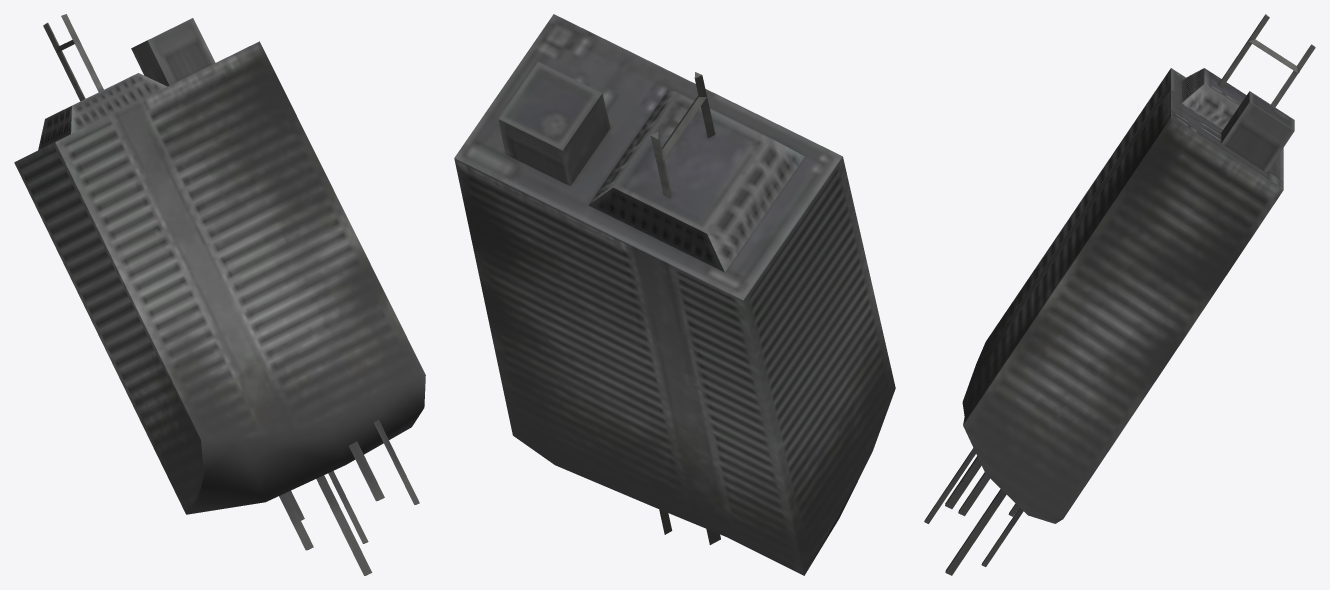
Rendered from skyBuildingAAC_pos_grp (22).fbx.
3 renders of one model, left to right at view 1: azimuth 30°, elevation 25°; view 2: azimuth 150°, elevation 25°; view 3: azimuth 270°, elevation 25°, orthographic. The views are drawn at different scales.
Visible parts, largest first — view 1: skyBuildingAAC_geo; view 2: skyBuildingAAC_geo; view 3: skyBuildingAAC_geo.
Boxes of the visible parts, bbox=[...] form: skyBuildingAAC_geo: bbox=[14, 14, 425, 575]; skyBuildingAAC_geo: bbox=[454, 14, 895, 575]; skyBuildingAAC_geo: bbox=[924, 14, 1315, 575].
Bounding box in the file's own units: 4.64 × 7.47 × 5.43.
